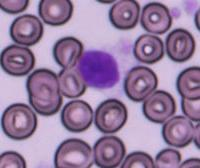L: (74, 46, 123, 90)
